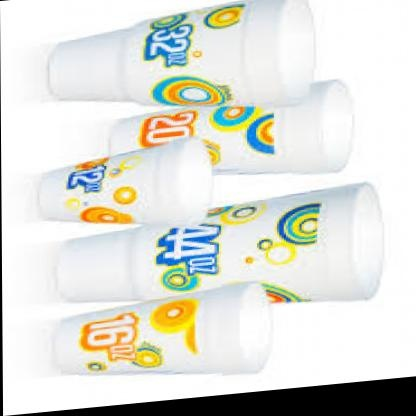trash: (57, 183, 382, 301), (49, 0, 313, 105), (110, 80, 352, 172), (56, 283, 271, 373), (40, 138, 212, 223)
